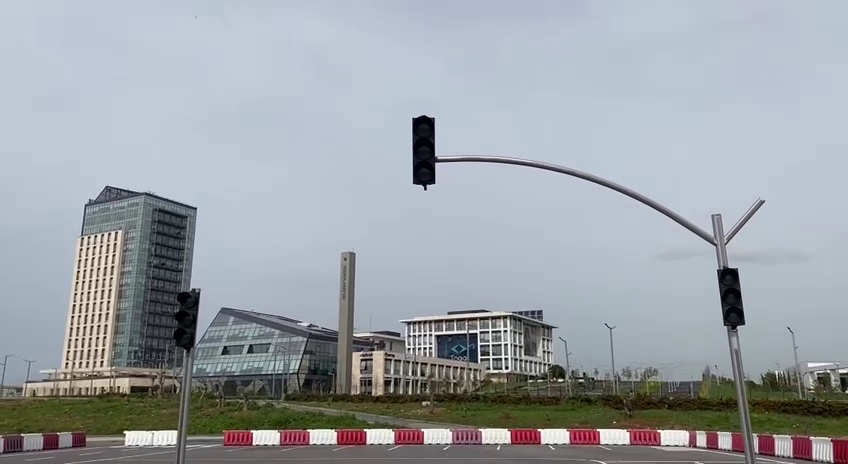trafficLight: (406, 109, 442, 192), (713, 263, 748, 334), (171, 284, 202, 353)
